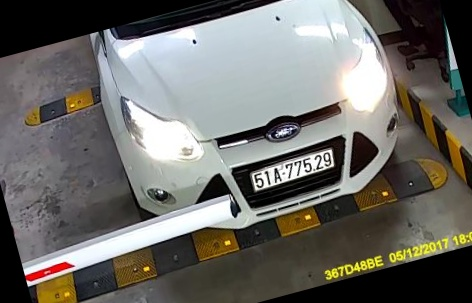plate: (249, 142, 334, 191)
